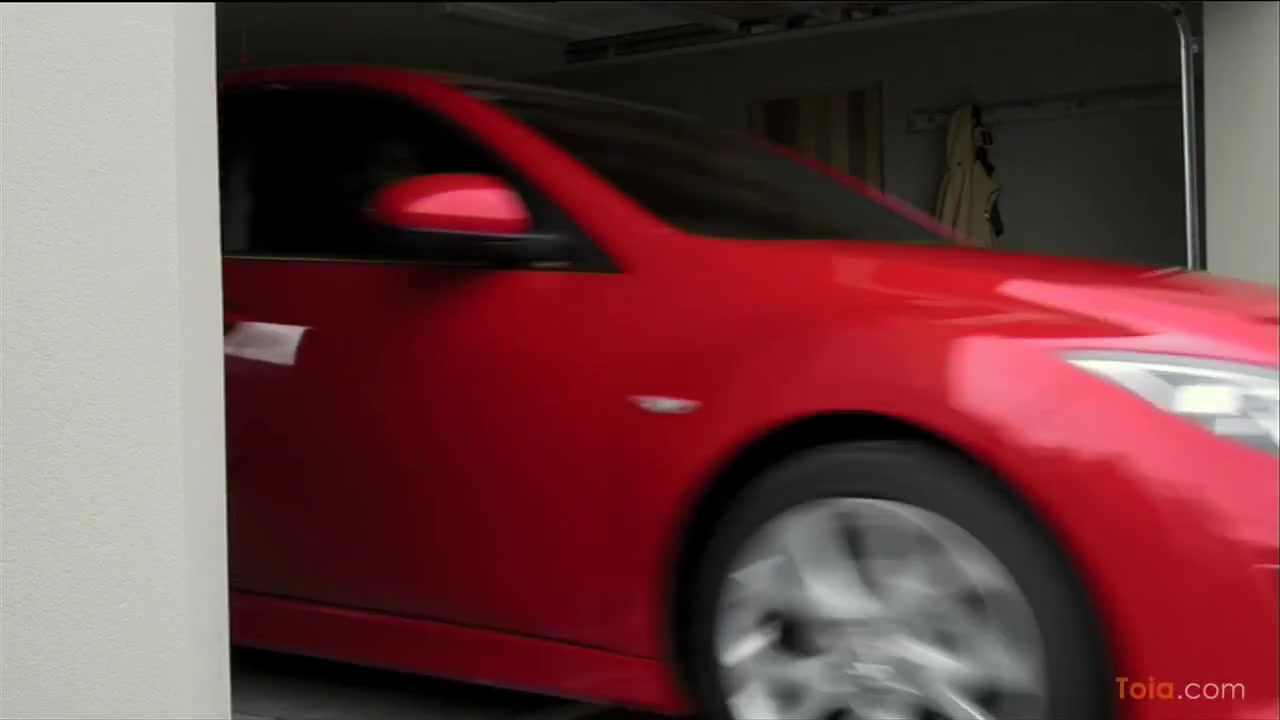car: (218, 62, 1280, 720)
